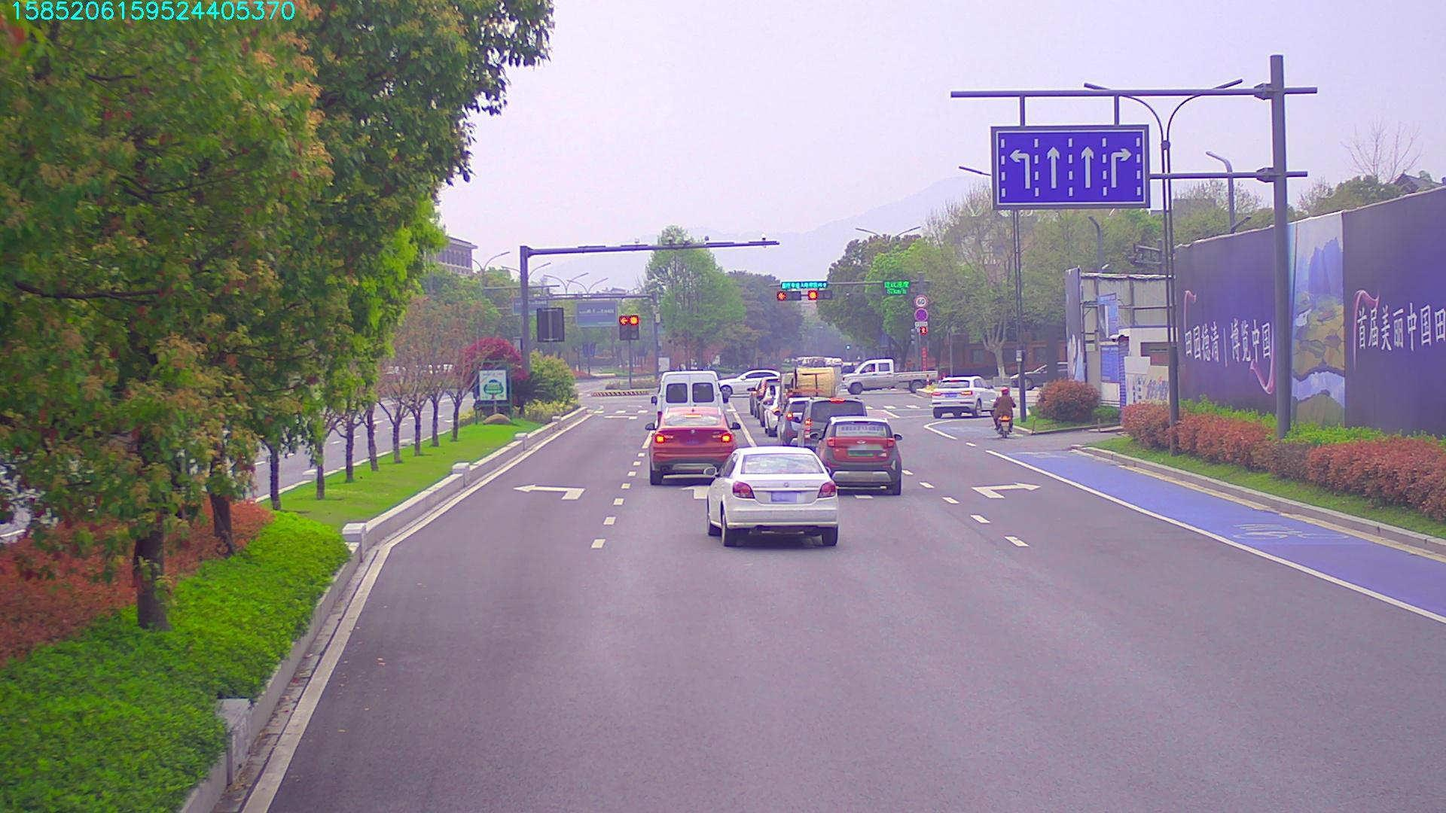red: (777, 288, 804, 300), (807, 290, 833, 300)
wait_on: (780, 278, 828, 290)
